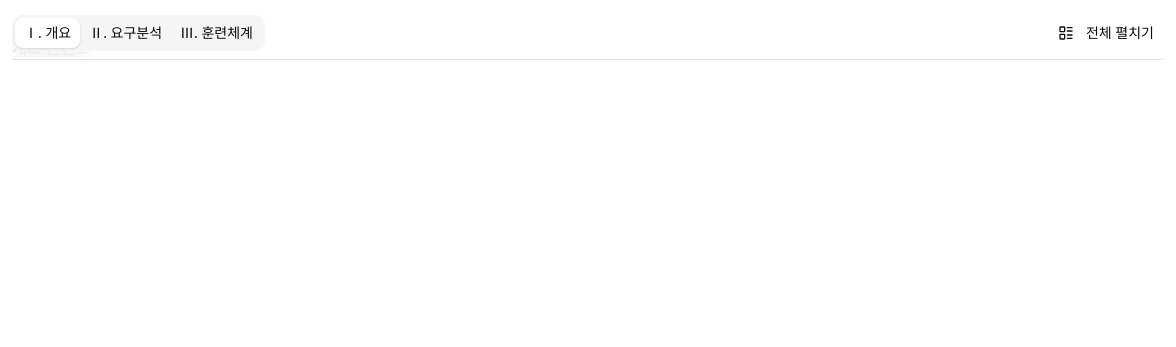
Test: ResultTabs › 전체 펼치기 토글 시 모든 탭 콘텐츠가 한번에 보인다
Expected: the text "개요 콘텐츠" is shown, [12, 37, 90, 59]
Expected: the text "요구분석 콘텐츠" is not shown
Click the button "전체 펼치기" at (1106, 33), box [1048, 17, 1164, 49]
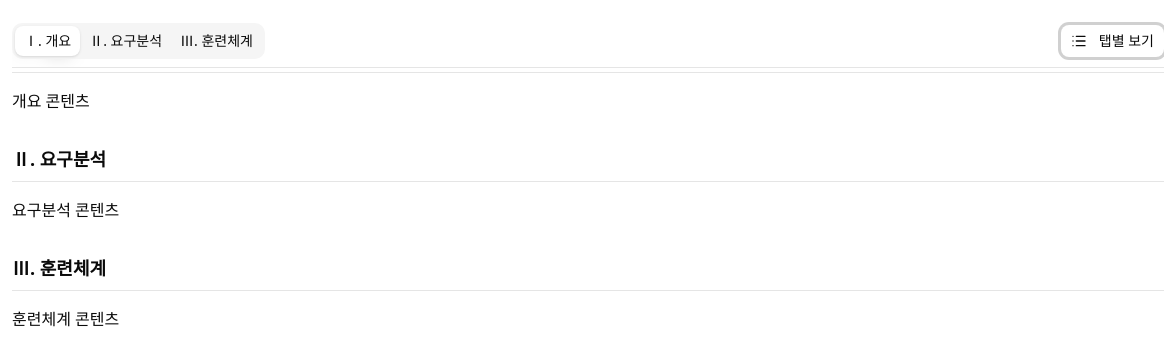
Expected: the text "개요 콘텐츠" is shown, [12, 90, 90, 112]
Expected: the text "요구분석 콘텐츠" is shown, [12, 199, 119, 221]
Expected: the text "훈련체계 콘텐츠" is shown, [12, 308, 119, 330]
